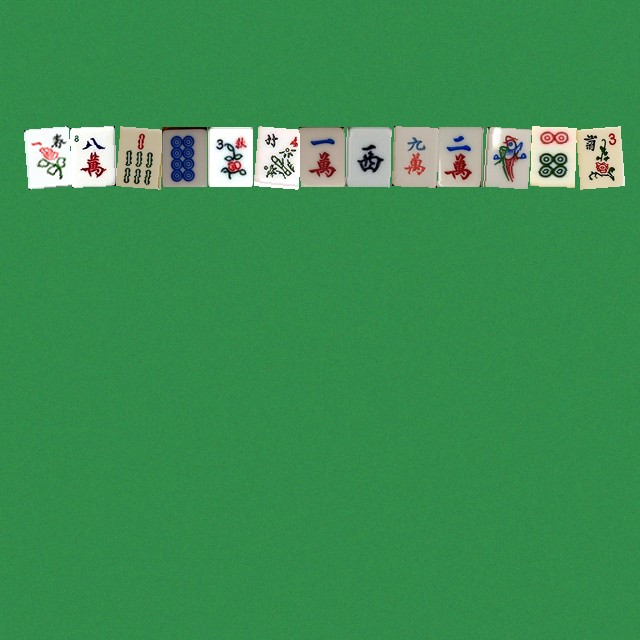tile: (23, 126, 68, 186), (69, 126, 114, 186), (115, 126, 160, 186), (161, 126, 206, 186), (207, 126, 252, 186), (253, 126, 298, 186), (299, 126, 344, 186), (345, 126, 390, 186), (391, 126, 436, 186), (437, 126, 482, 186), (483, 126, 528, 186), (529, 126, 574, 186), (575, 126, 620, 186)
